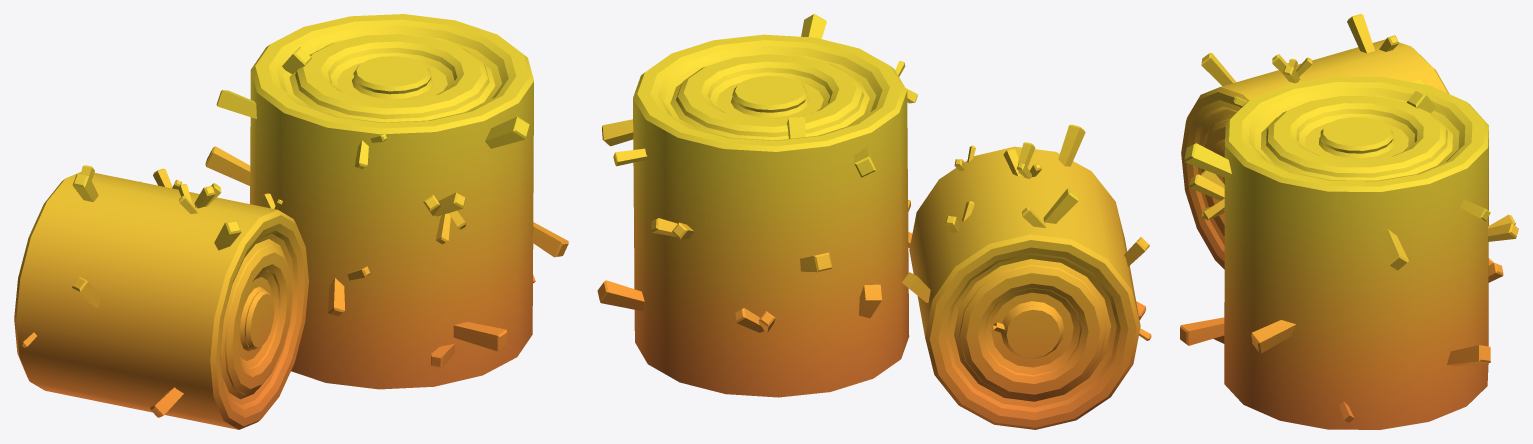
Rendered from Haystack_02.fbx.
The picture shows the model from 3 angles, left to right: view 1: azimuth 30°, elevation 25°; view 2: azimuth 150°, elevation 25°; view 3: azimuth 270°, elevation 25°; orthographic projection. The views are drawn at different scales.
Parts seen in each view (by area): view 1: Haystack_02; view 2: Haystack_02; view 3: Haystack_02.
Part boxes in pixels (x1=…): Haystack_02: x1=14, y1=14, x2=568, y2=429; Haystack_02: x1=597, y1=14, x2=1151, y2=429; Haystack_02: x1=1180, y1=14, x2=1518, y2=429.
Size of the model in its own units: 170 by 81.98 by 98.9.
